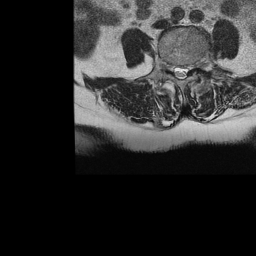CCS_severe_stenosis: (178, 59, 183, 83)
LFS_normal: (188, 57, 194, 74)
LLS_stenosis: (183, 60, 189, 81)
RFS_normal: (166, 56, 172, 76)
RLS_normal: (172, 59, 178, 80)
